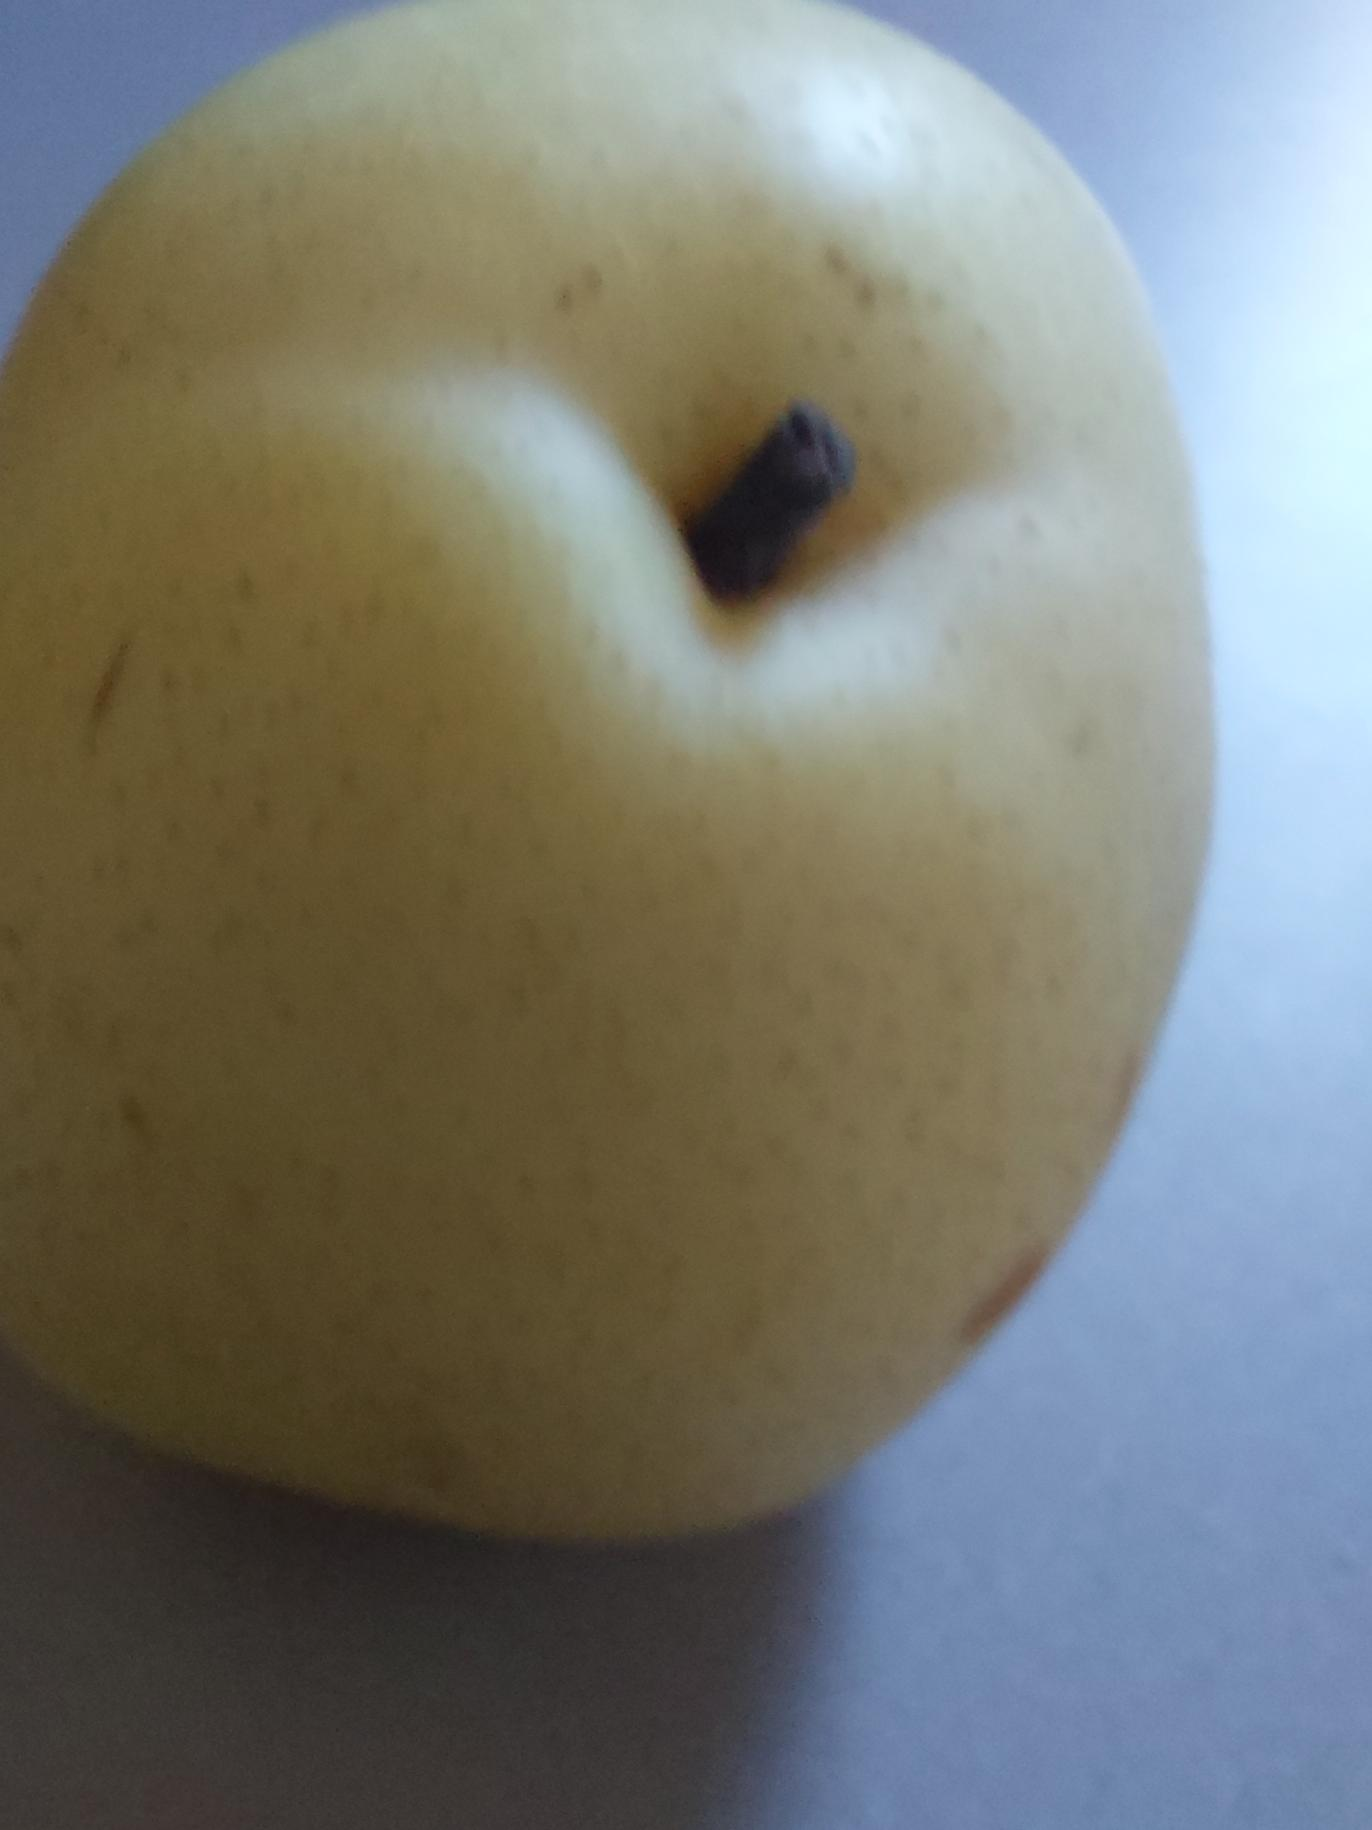Good Pear: (0, 0, 1241, 1558)
